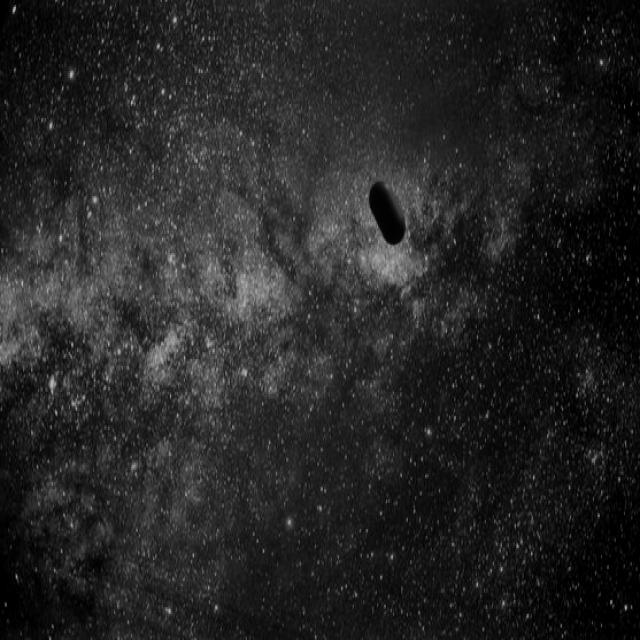large_debris: (367, 175, 410, 248)
